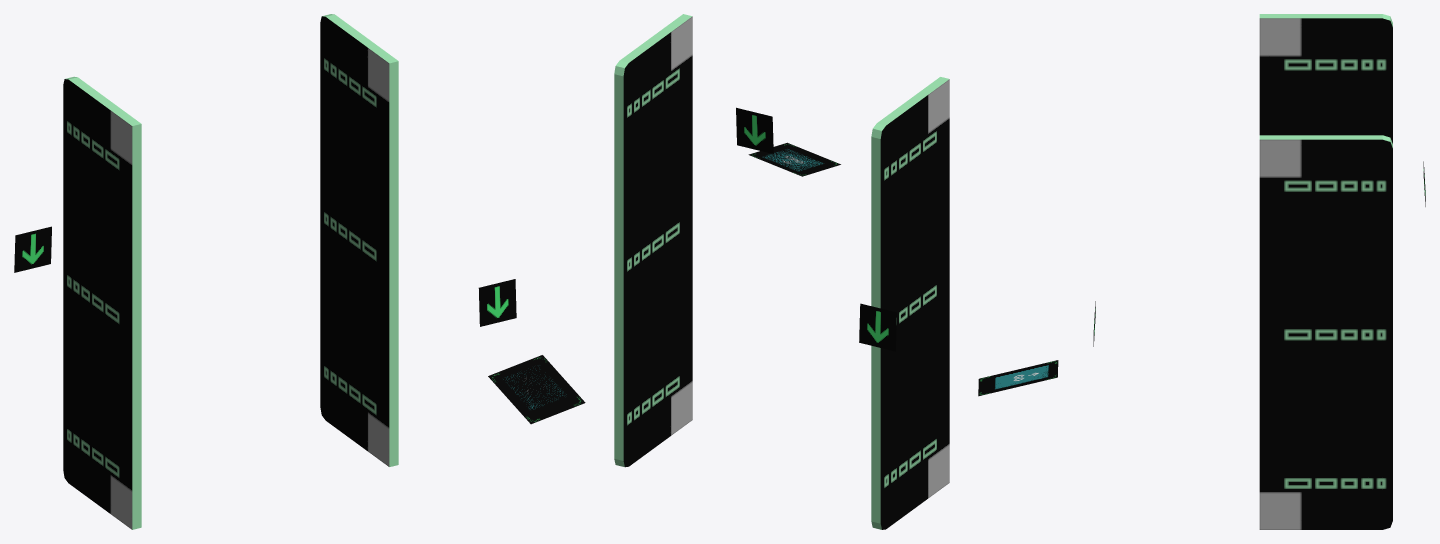
File: nyc_subway_fare_gate_5_twoway_open_entrance_light_layer.obj
3 renders of one model, left to right at view 1: azimuth 30°, elevation 25°; view 2: azimuth 150°, elevation 25°; view 3: azimuth 270°, elevation 25°, orthographic. The views are drawn at different scales.
Parts seen in each view (by area): view 1: doorLeft, cube; view 2: doorLeft, cube; view 3: doorLeft, cube.
Part boxes in pixels (box(x1,y1,x2,y2)): doorLeft: box(63, 14, 398, 529); cube: box(14, 226, 585, 424); doorLeft: box(614, 14, 949, 529); cube: box(736, 107, 896, 351); doorLeft: box(1259, 14, 1392, 529); cube: box(978, 161, 1425, 396).
Size of the model in its own units: 1.16 by 1.31 by 1.36.
1 material, 1 textured.
